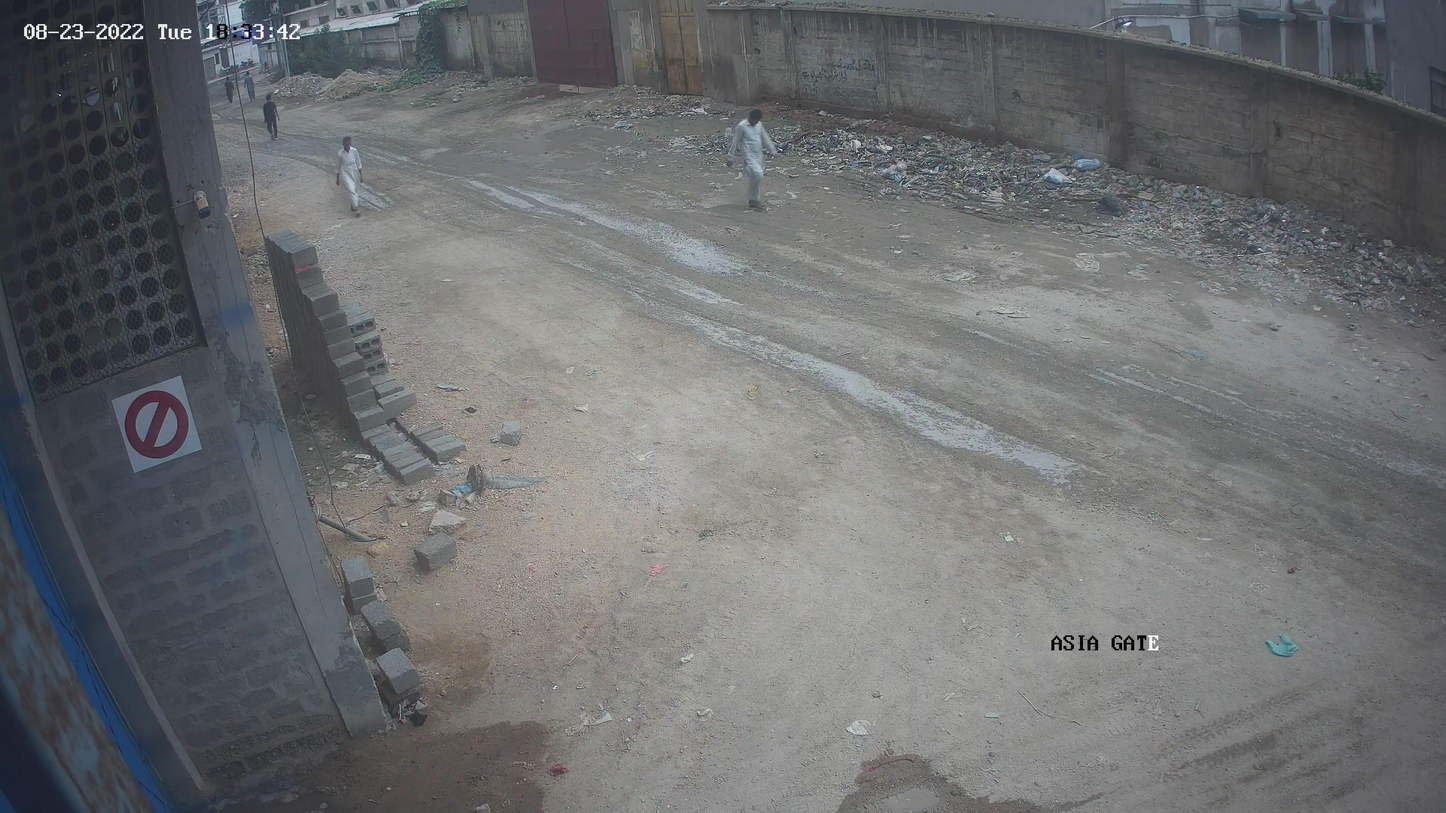person: (728, 111, 778, 210), (328, 137, 369, 217), (259, 92, 292, 142), (217, 75, 242, 107), (246, 71, 266, 100)
